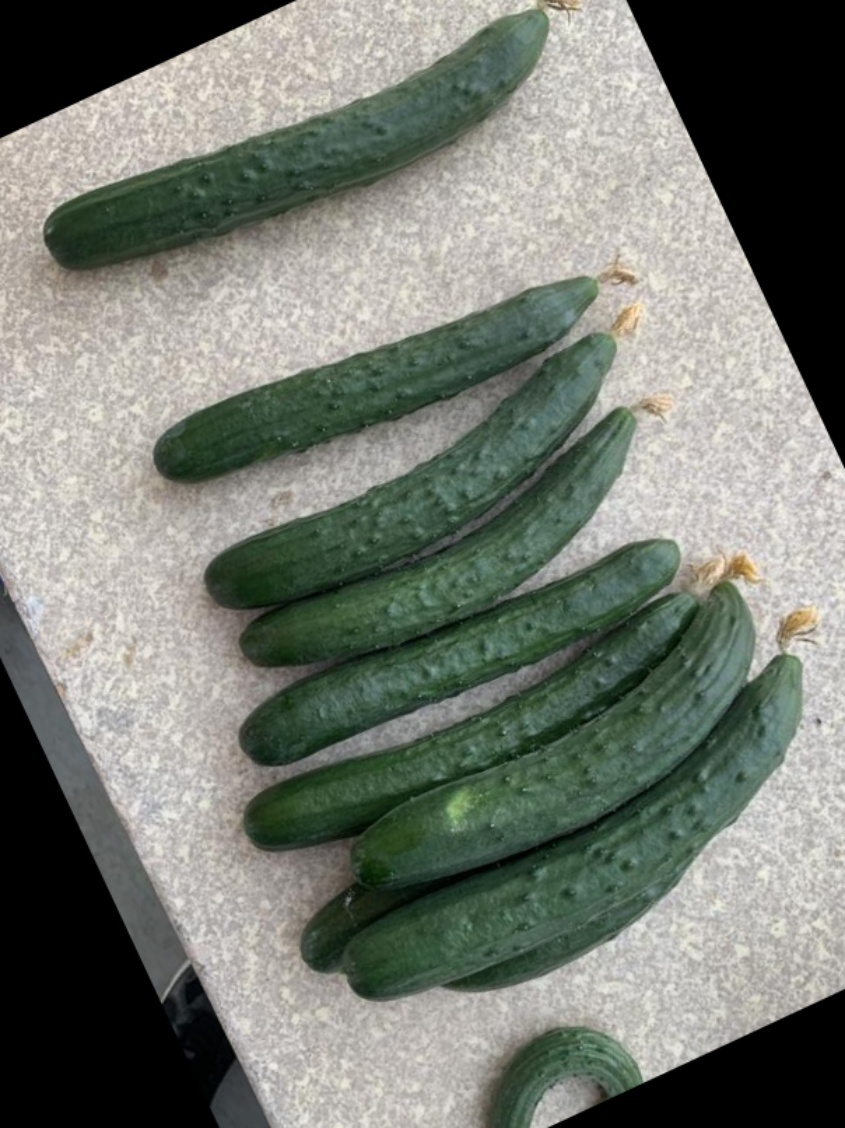mature: (348, 662, 805, 1000)
